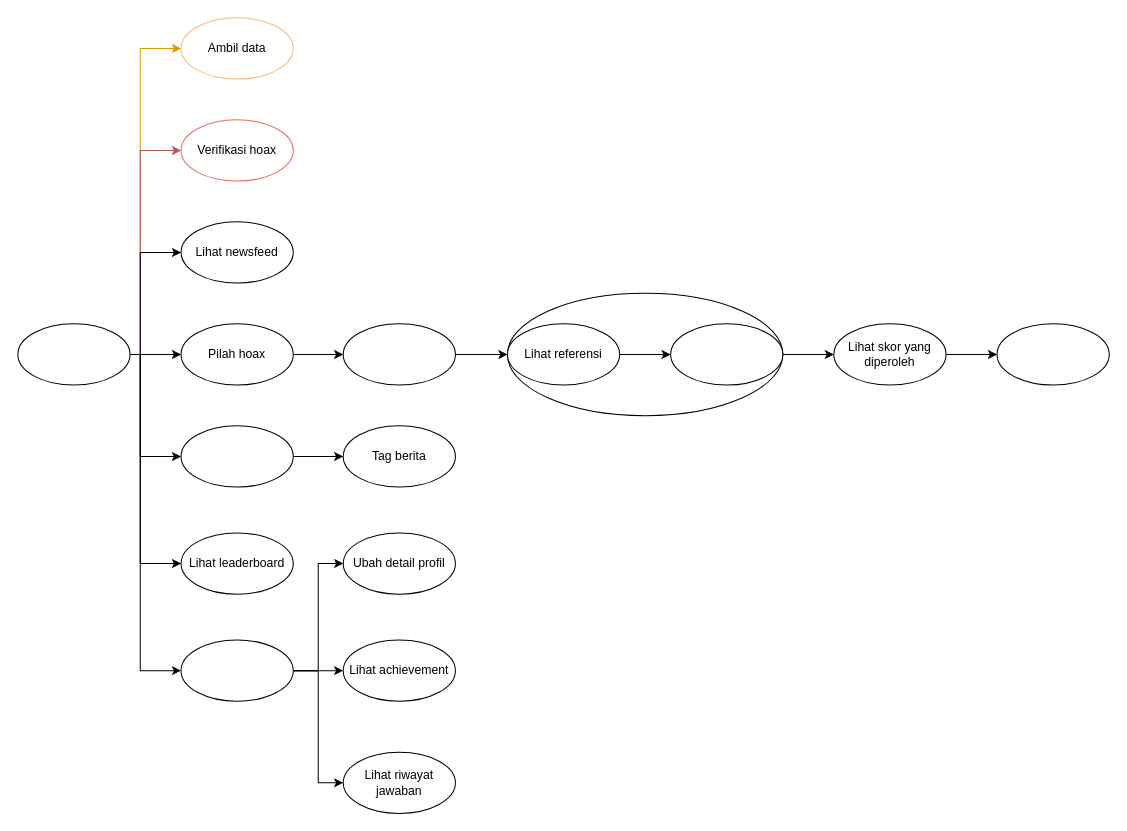
The diagram is 1127 pixels wide and 831 high, and some of its shapes have lost their labels. Each missing label, with the centre of its shape:
"Back to home" goes at point (1052, 354).
"Lihat profil" goes at point (236, 670).
"Login" goes at point (73, 354).
"Pilih jawaban" goes at point (726, 354).
"Pilih level kompleksitas" goes at point (398, 354).
"Tambah berita" goes at point (236, 456).
